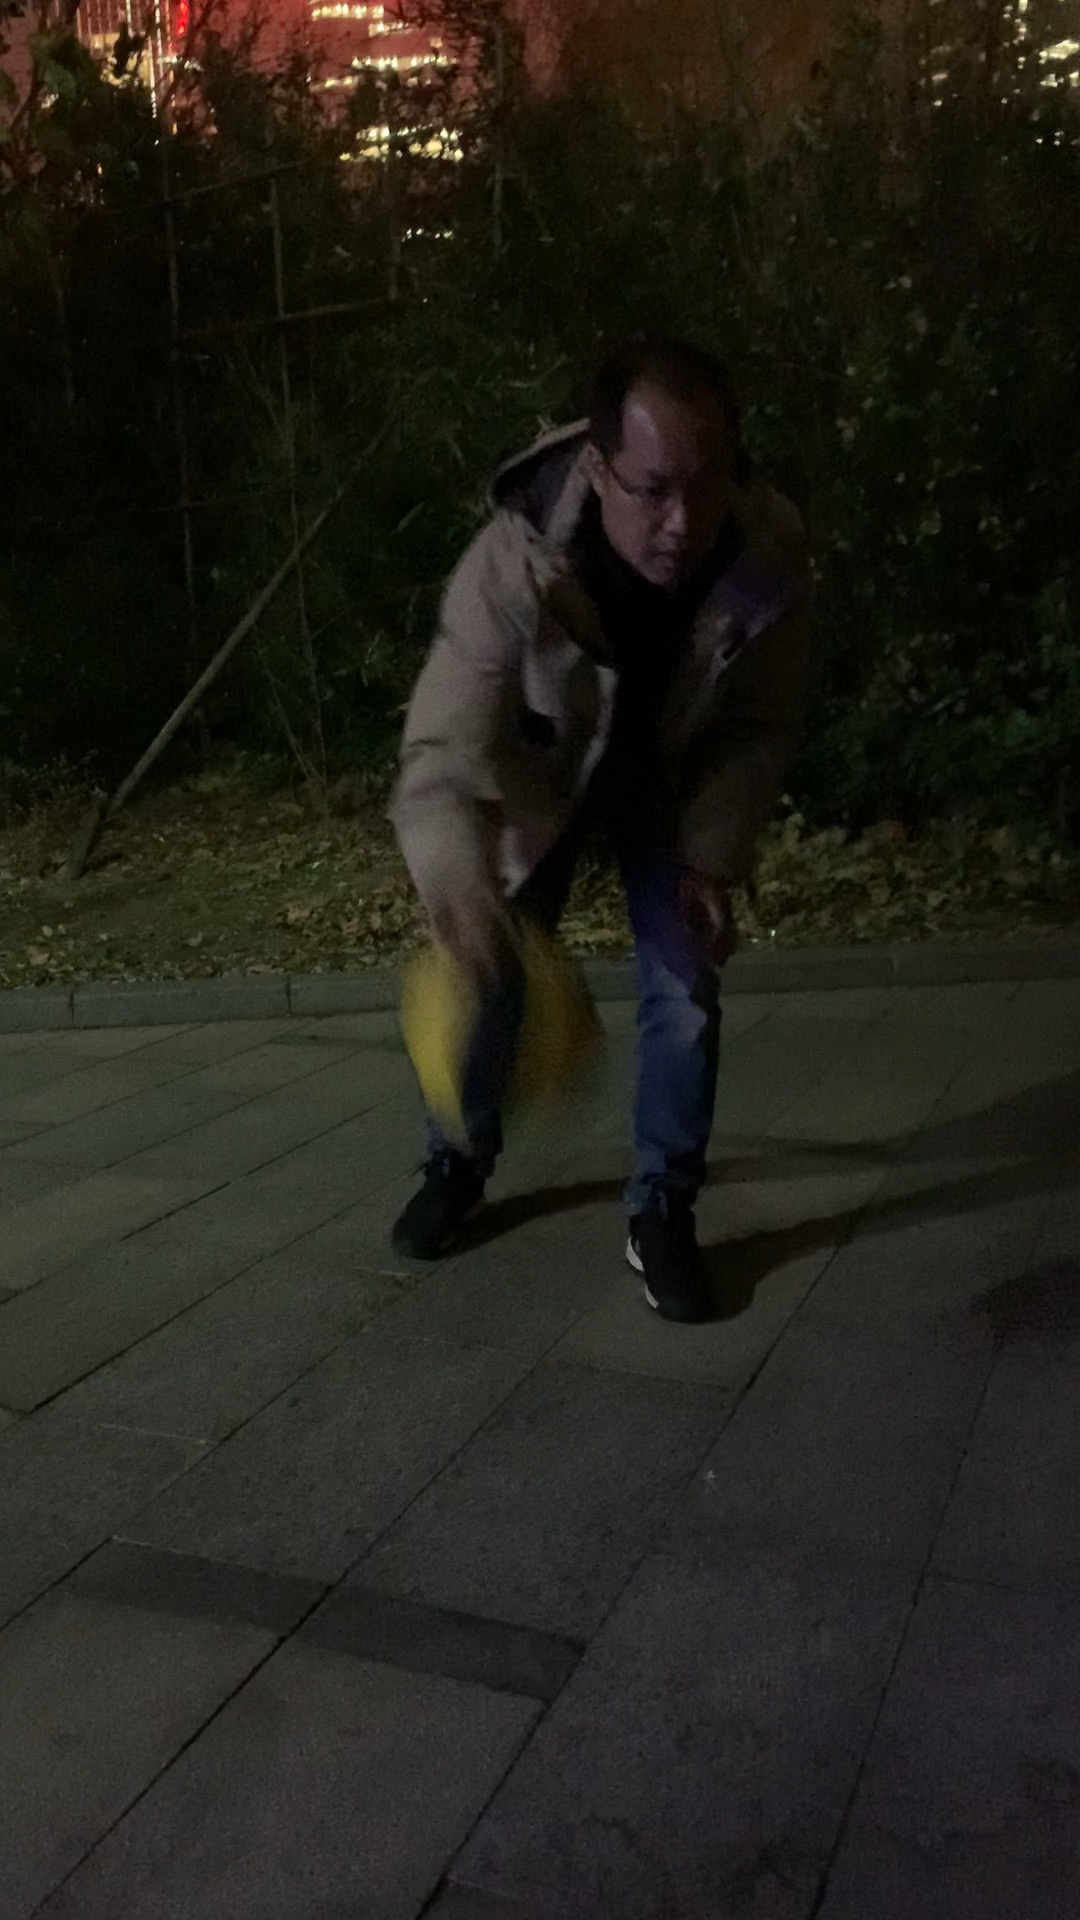ball: (409, 931, 613, 1135)
